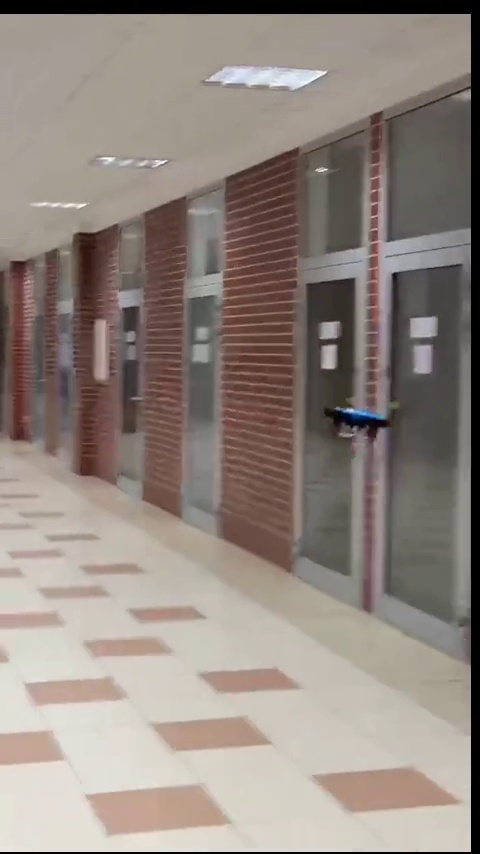drone: (324, 400, 402, 449)
